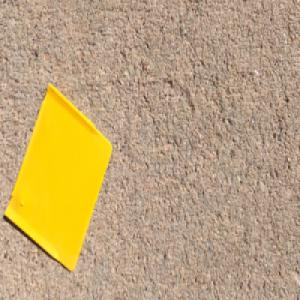PlasticPart: (3, 81, 113, 273)
